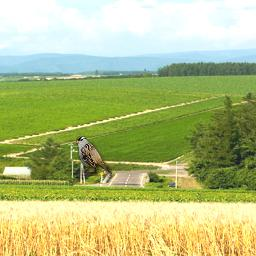Sparrow: (76, 136, 112, 176)
